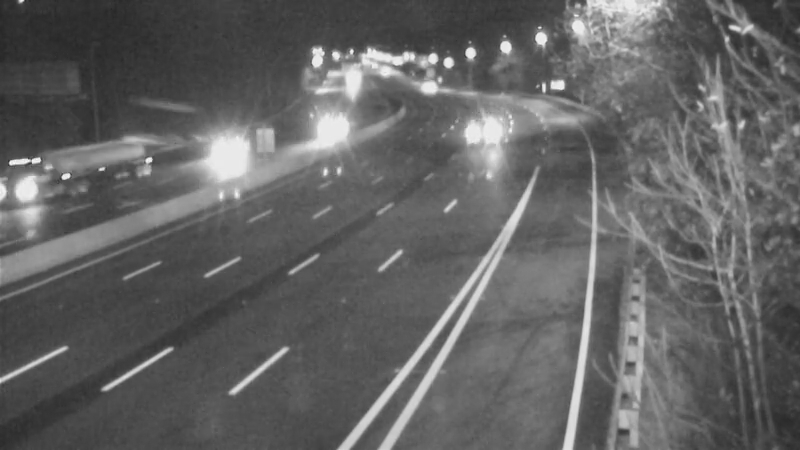vehicle: (20, 126, 100, 206), (186, 115, 266, 195), (398, 59, 448, 109), (458, 102, 508, 152), (302, 107, 352, 157)
